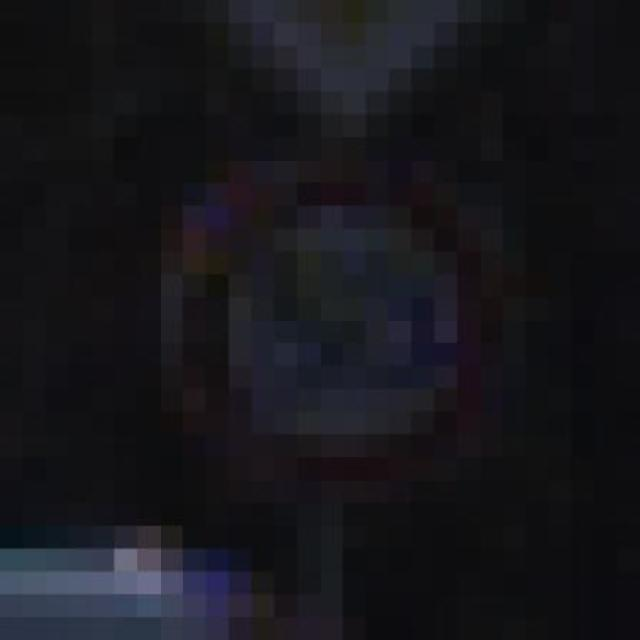50 mph speed limit: (159, 137, 572, 503)
